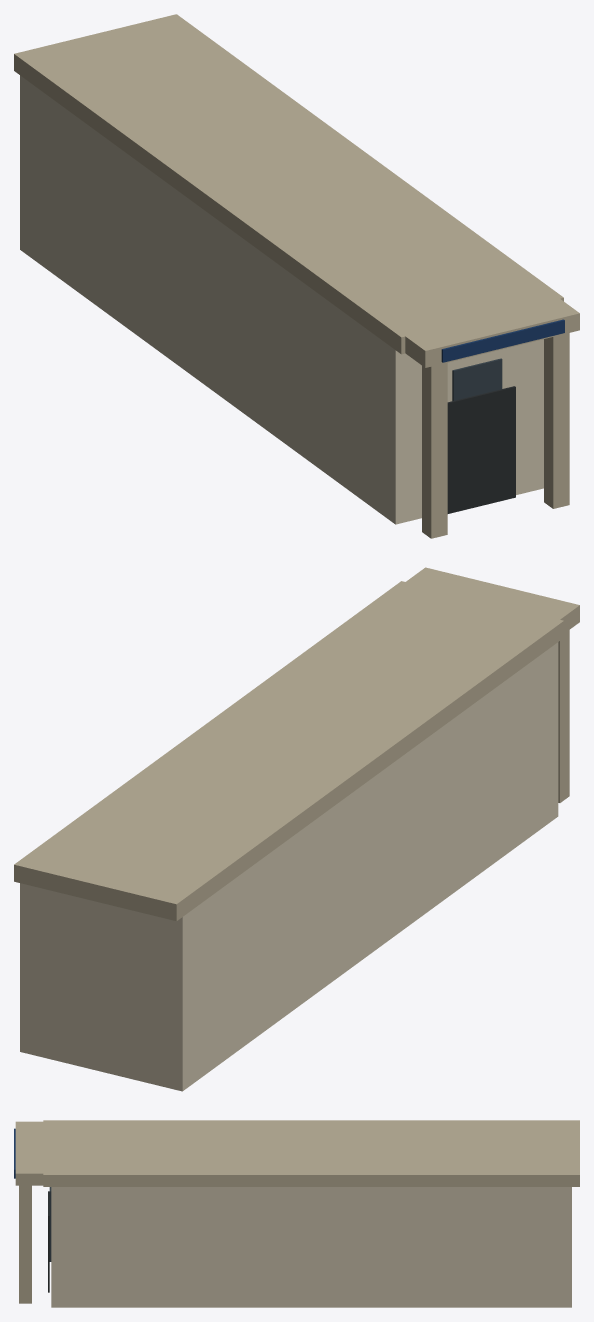
File: bank-door.glb
The picture shows the model from 3 angles, top to bottom: view 1: azimuth 30°, elevation 25°; view 2: azimuth 150°, elevation 25°; view 3: azimuth 270°, elevation 25°; orthographic projection. The views are drawn at different scales.
Visible parts, largest first — view 1: bank-door; view 2: bank-door; view 3: bank-door.
Boxes of the visible parts, <box> form: bank-door: <box>14,14,579,538</box>; bank-door: <box>14,567,579,1091</box>; bank-door: <box>14,1120,579,1307</box>.
Bounding box in the file's own units: 4 × 4.5 × 17.4.
